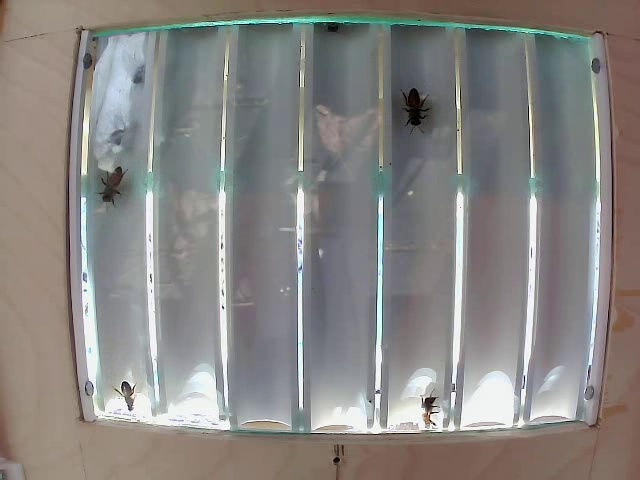bee: (413, 385, 453, 428), (91, 163, 132, 198), (401, 84, 429, 126)
